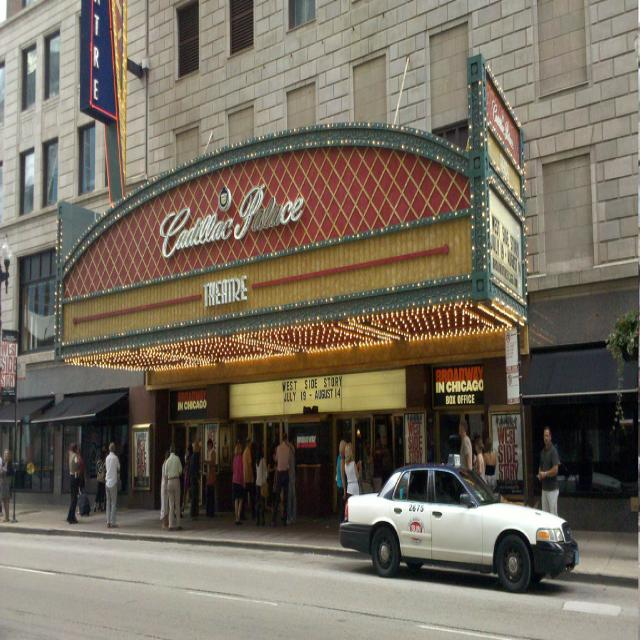car: (344, 454, 573, 581)
